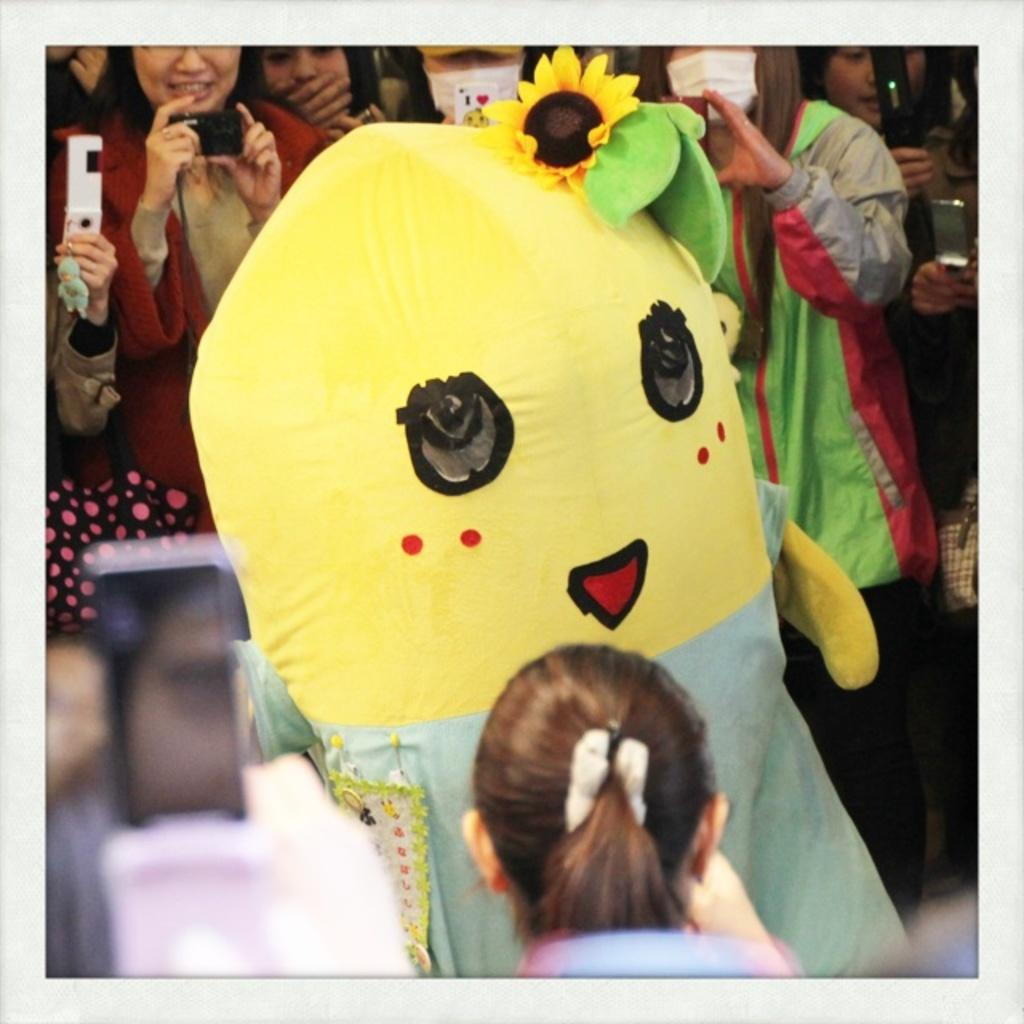Sem Máscara: (129, 46, 240, 111), (257, 44, 348, 86)
